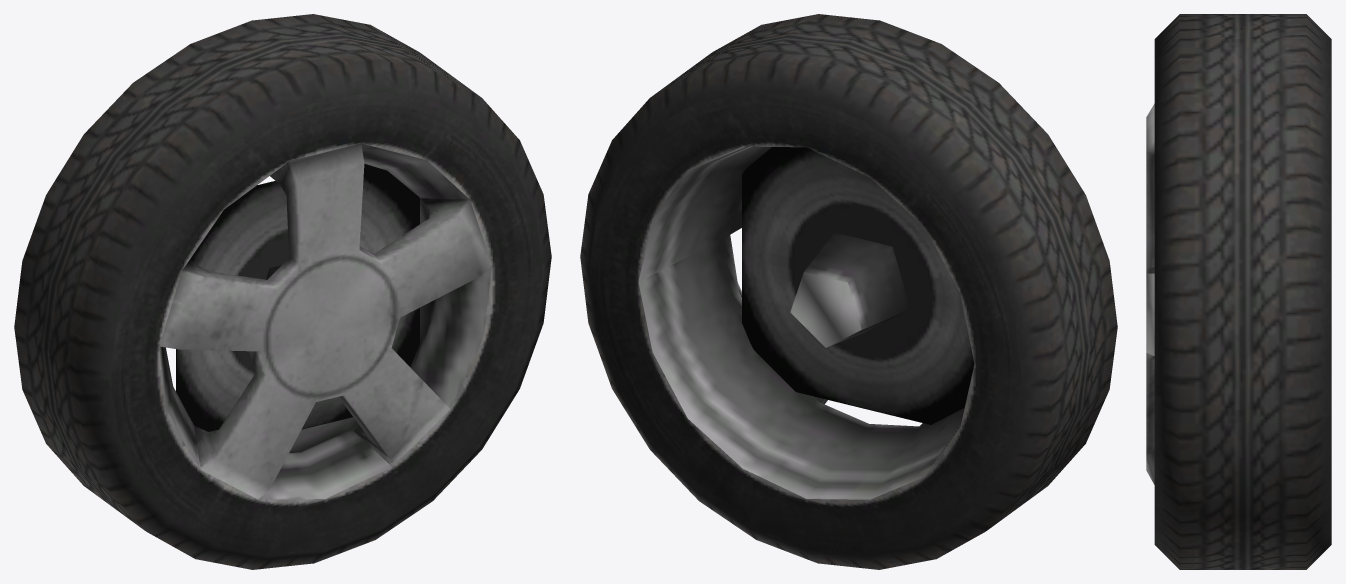
The model's file is V_A_2DrCoupe_Wheels_7_SkeletalMesh3_SkeletalMesh_18.psk.glb.
3 views of the same model, side by side, from view 1: azimuth 30°, elevation 25°; view 2: azimuth 150°, elevation 25°; view 3: azimuth 270°, elevation 25° (orthographic).
Bounding box in the file's own units: 68.85 × 68.85 × 22.86.
Materials: 1 (1 with a texture image).
